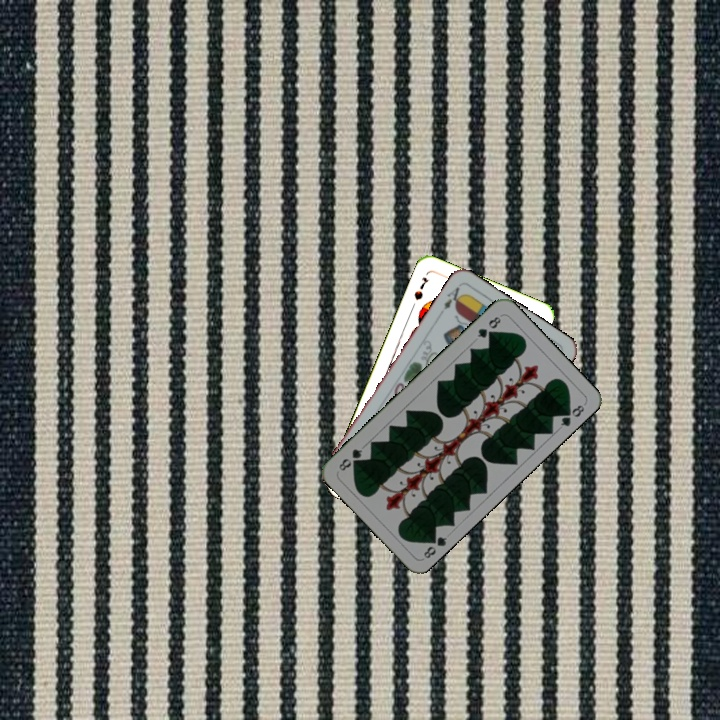EA: (439, 283, 466, 312)
G8: (419, 530, 450, 561), (473, 312, 504, 341)
S7: (410, 273, 431, 303)
